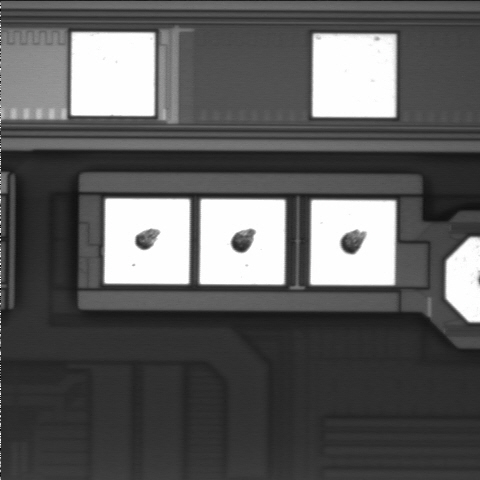pad: (104, 199, 190, 284), (310, 200, 396, 285), (200, 199, 285, 284), (71, 32, 155, 116), (313, 34, 396, 117)
